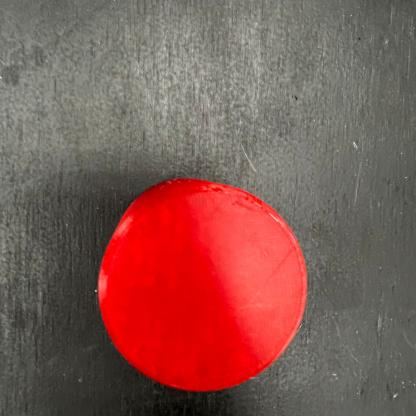red cylinder: (93, 172, 311, 395)
